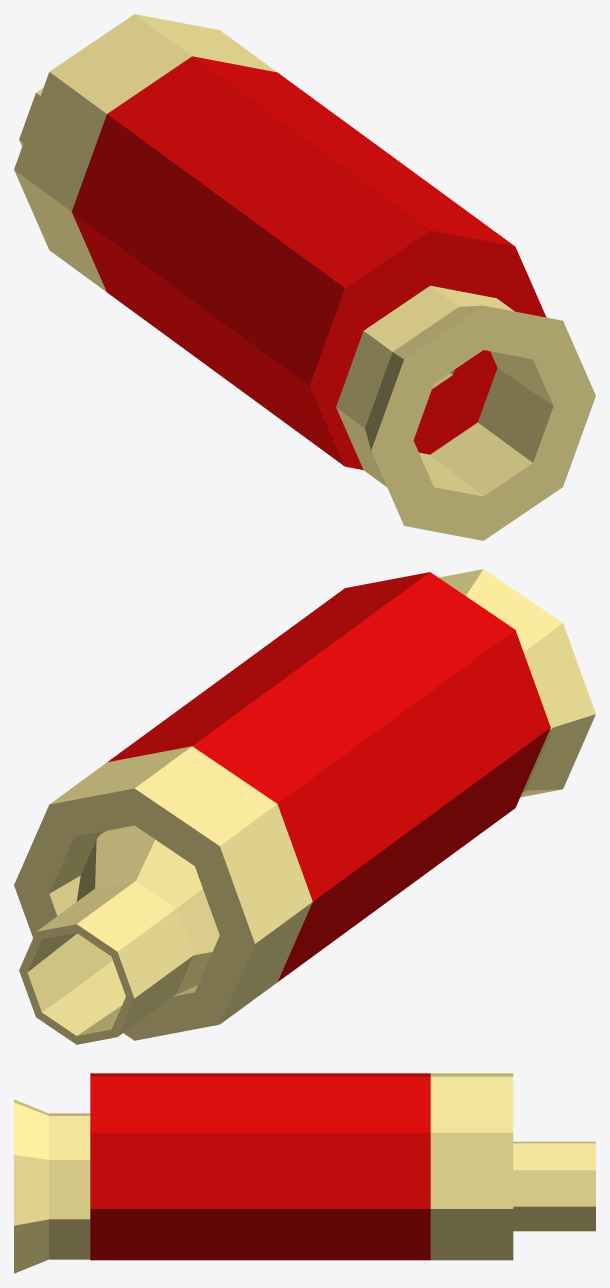
Rendered from BuletCase.fbx.
The picture shows the model from 3 angles, top to bottom: view 1: azimuth 30°, elevation 25°; view 2: azimuth 150°, elevation 25°; view 3: azimuth 270°, elevation 25°; orthographic projection. The views are drawn at different scales.
Parts seen in each view (by area): view 1: Gauge, Rifle; view 2: Gauge, Rifle; view 3: Gauge, Rifle.
Boxes of the visible parts, x1,y1,x2,y2 form: Gauge: (14, 14, 546, 469); Rifle: (19, 88, 595, 540); Gauge: (14, 572, 550, 1040); Rifle: (19, 569, 595, 1044); Gauge: (90, 1073, 513, 1260); Rifle: (14, 1099, 595, 1273).
Bounding box in the file's own units: 0.0241 × 0.0259 × 0.0705.
